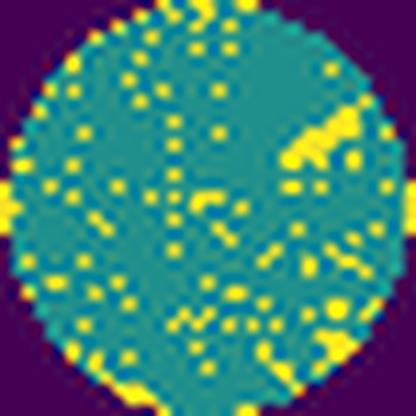Loc: (280, 101, 367, 169), (318, 326, 358, 369)
